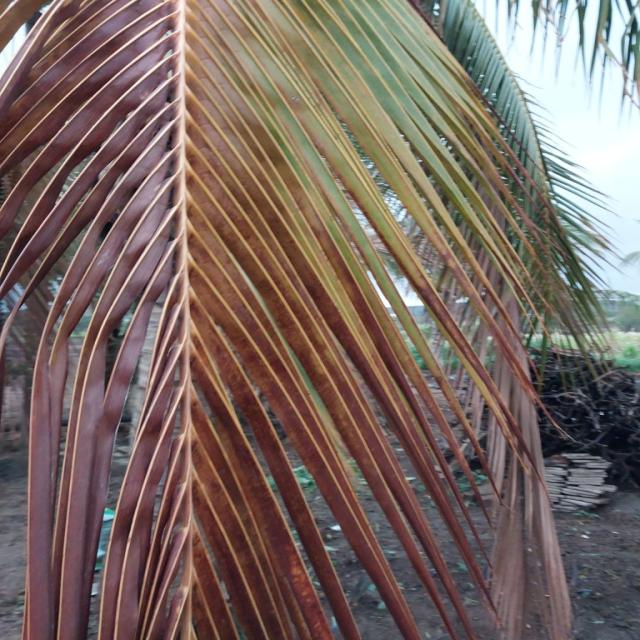gray leaf spot: (0, 0, 538, 625), (459, 280, 573, 630)
